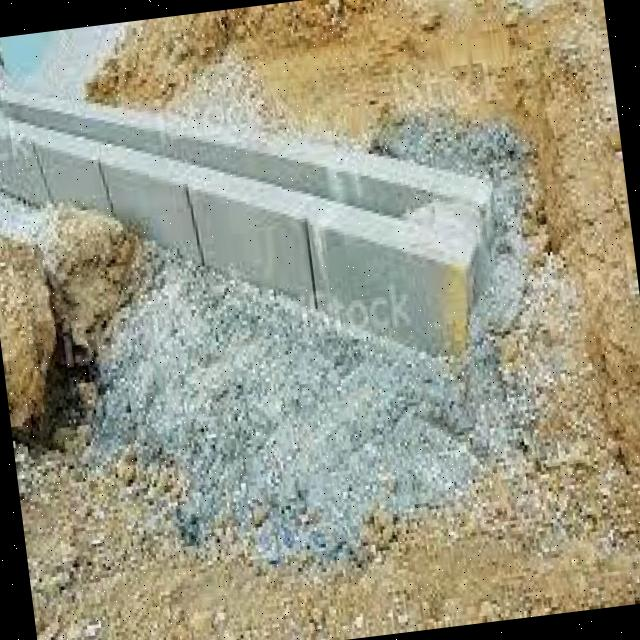curb: (297, 198, 509, 363), (124, 147, 345, 296), (1, 90, 136, 244)
